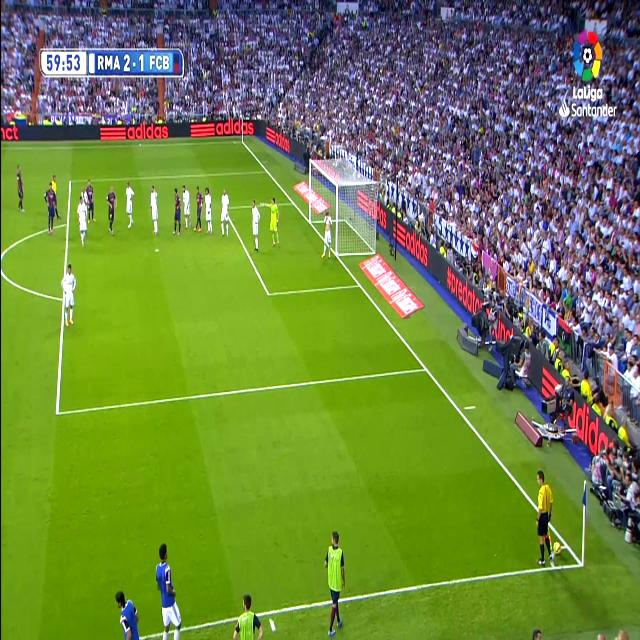bigarea_bottom_inner: (53, 396, 63, 424)
bigarea_top_outter: (263, 165, 269, 176)
bottom_arc_area_intersection: (422, 360, 431, 378)
corner: (237, 136, 245, 146)
smallarea_bottom_inner: (264, 282, 272, 304)
smallarea_bottom_outter: (356, 276, 362, 293)
smallarea_top_outter: (289, 196, 295, 208)
